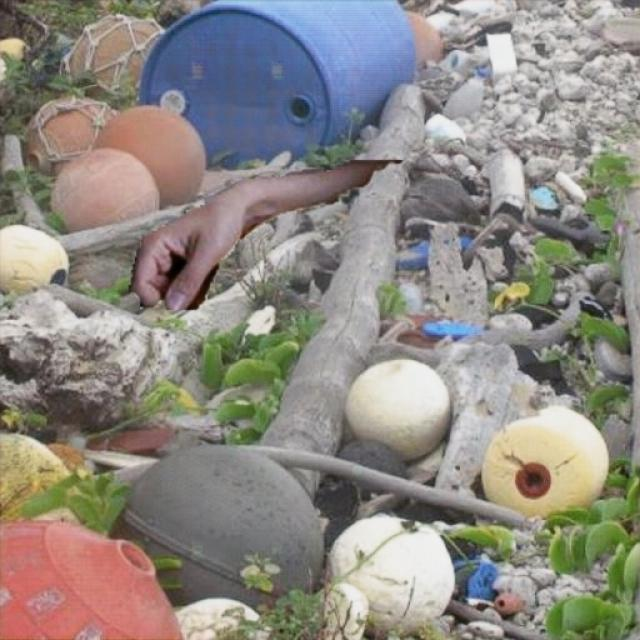Person in Rubble: (128, 160, 402, 309)
